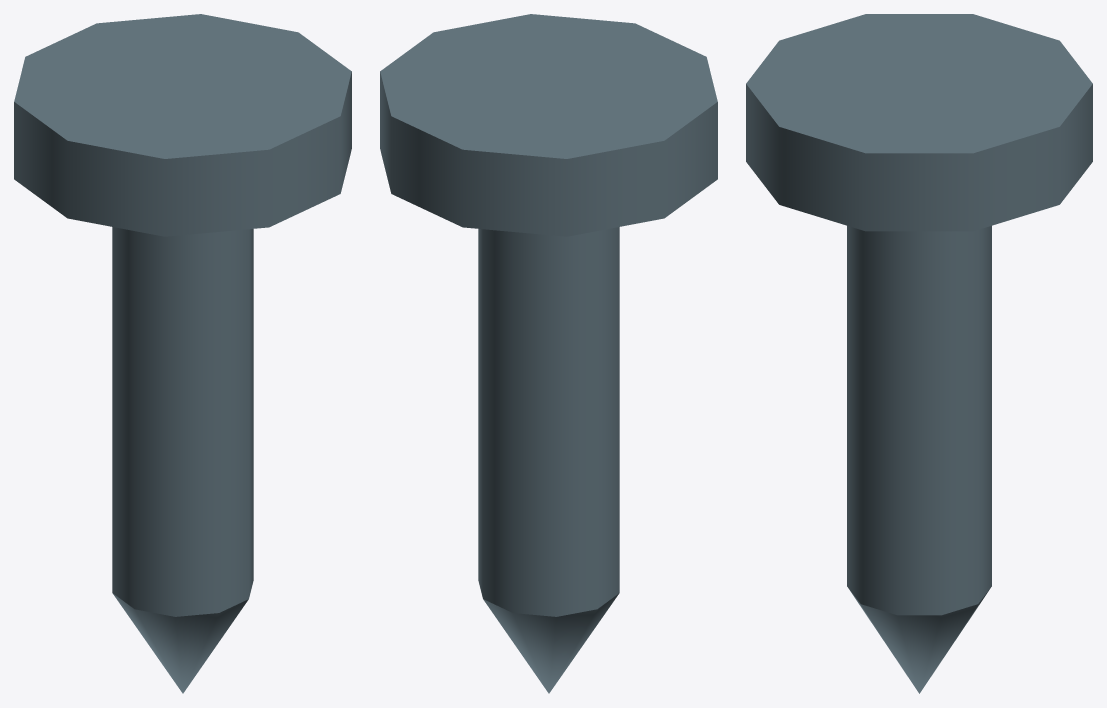
The model's file is nail.obj.
3 views of the same model, side by side, from view 1: azimuth 30°, elevation 25°; view 2: azimuth 150°, elevation 25°; view 3: azimuth 270°, elevation 25° (orthographic).
Parts seen in each view (by area): view 1: nail_Cylinder.008; view 2: nail_Cylinder.008; view 3: nail_Cylinder.008.
Boxes of the visible parts, <box> form: nail_Cylinder.008: <box>14,14,351,693</box>; nail_Cylinder.008: <box>380,14,717,693</box>; nail_Cylinder.008: <box>746,14,1092,693</box>.
Bounding box in the file's own units: 0.108 × 0.2205 × 0.1136.
